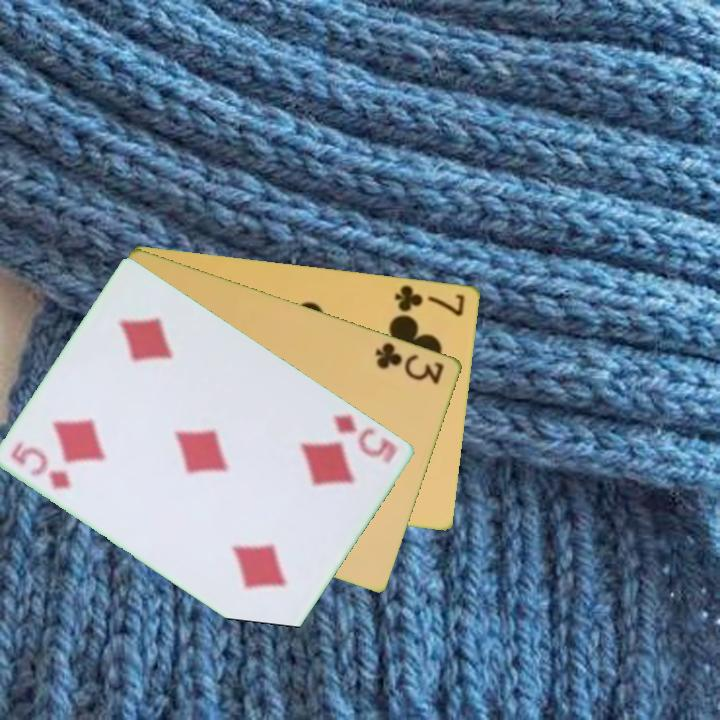3c: (372, 338, 447, 387)
5d: (330, 411, 401, 467), (7, 438, 75, 493)
7c: (391, 281, 468, 319)
